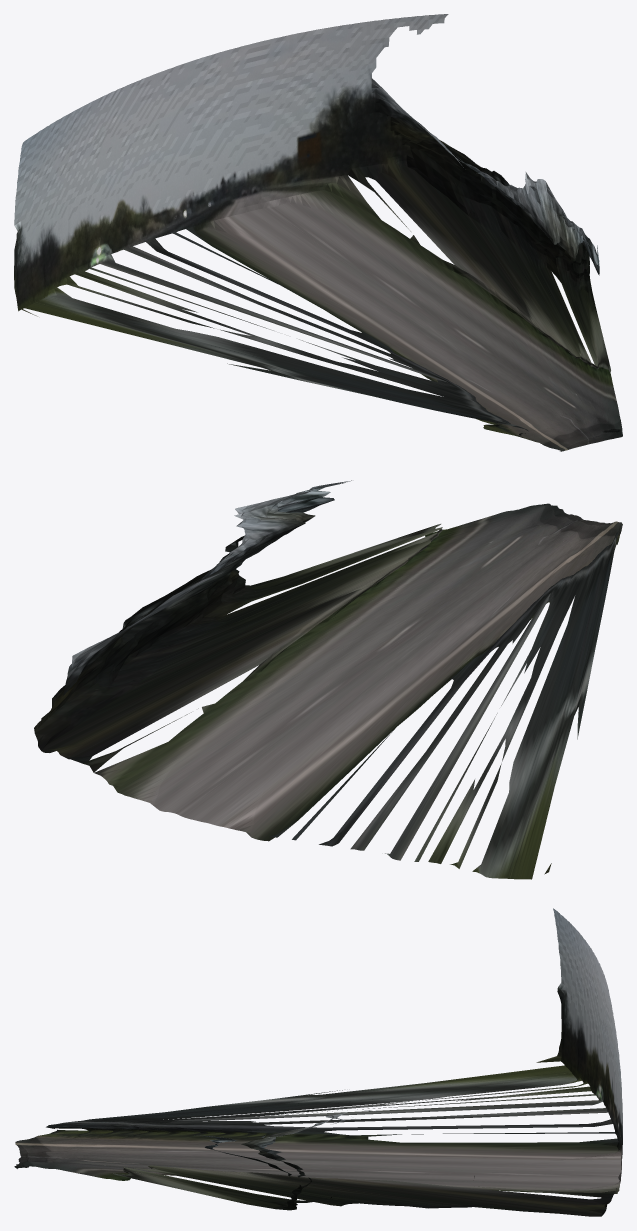
3 renders of one model, top to bottom at view 1: azimuth 30°, elevation 25°; view 2: azimuth 150°, elevation 25°; view 3: azimuth 270°, elevation 25°, orthographic. The views are drawn at different scales.
Visible parts, largest first — view 1: defaultobject; view 2: defaultobject; view 3: defaultobject.
Boxes of the visible parts, box(x1,y1,x2,y2) form: defaultobject: box(14, 14, 622, 451); defaultobject: box(34, 480, 622, 879); defaultobject: box(14, 908, 622, 1216).
Size of the model in its own units: 33.88 by 13.34 by 44.71.
1 material, 1 textured.
